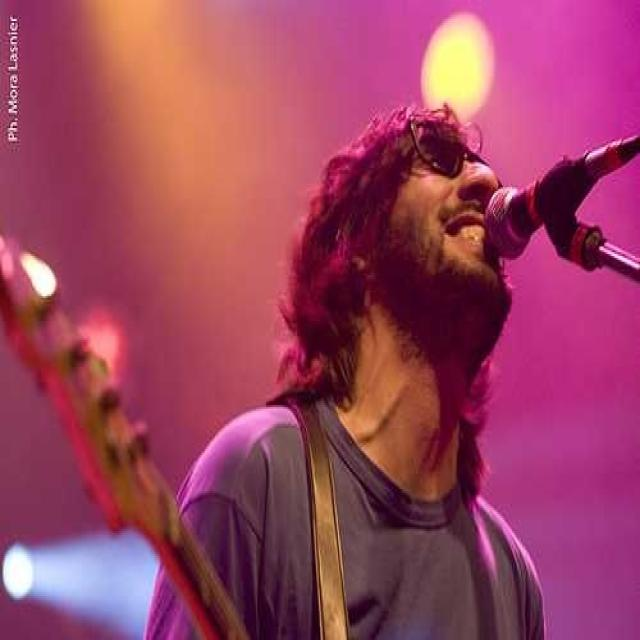microphone: (486, 123, 640, 276)
